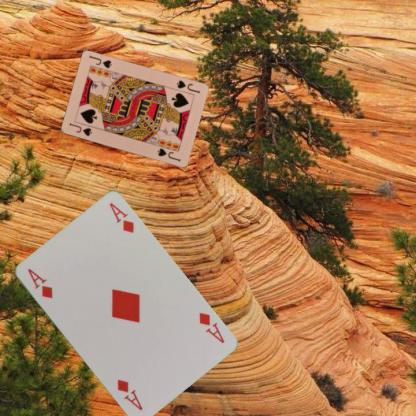Ad: (196, 309, 225, 345), (24, 266, 54, 300)
Js: (173, 77, 201, 95), (66, 120, 93, 138)
